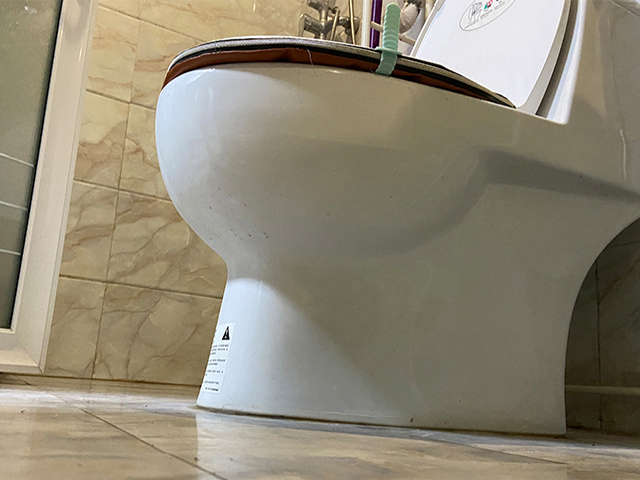closestool: (151, 1, 640, 439)
